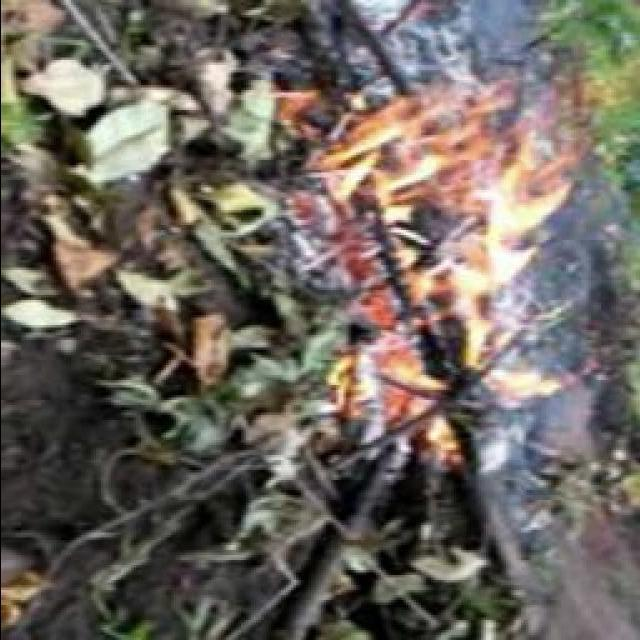Fire: (301, 61, 590, 463)
